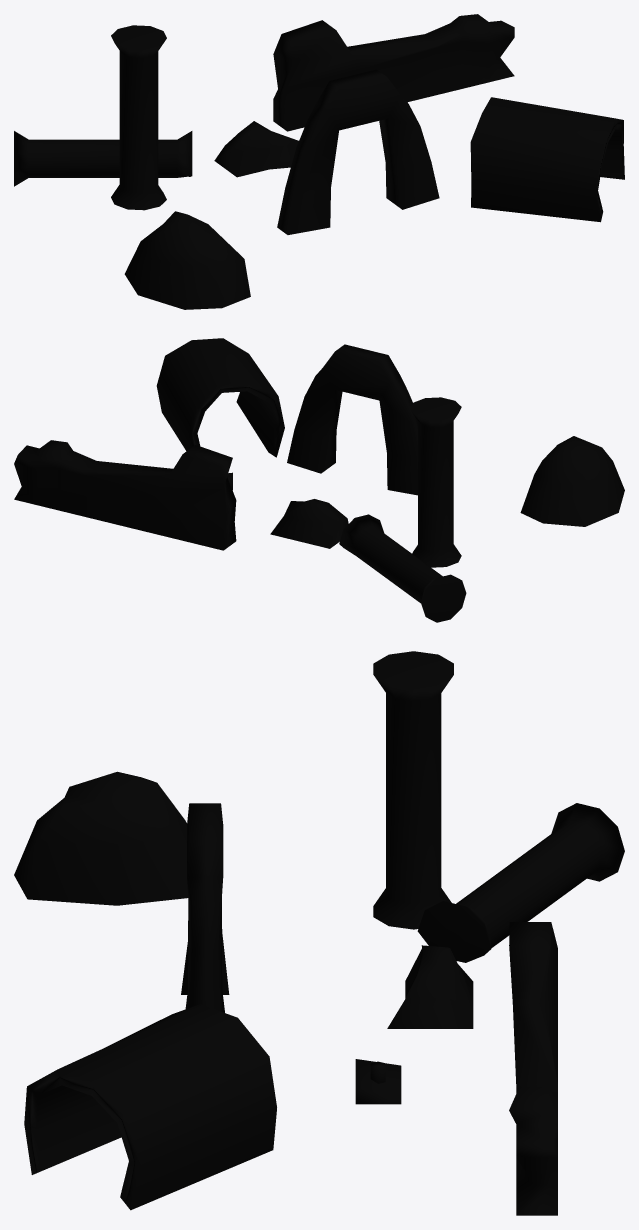
Rendered from Harley_Ruin.fbx.
3 renders of one model, top to bottom at view 1: azimuth 30°, elevation 25°; view 2: azimuth 150°, elevation 25°; view 3: azimuth 270°, elevation 25°, orthographic. The views are drawn at different scales.
Visible parts, largest first — view 1: Ruin_Tunnel, Ruin_Wall, Ruin_Arch, Ruin_Stone02, Ruin_Pillar_Upright, Ruin_Pillar_Fallen, Ruin_Stone01; view 2: Ruin_Wall, Ruin_Arch, Ruin_Tunnel, Ruin_Stone02, Ruin_Pillar_Upright, Ruin_Pillar_Fallen, Ruin_Stone01; view 3: Ruin_Tunnel, Ruin_Stone02, Ruin_Pillar_Upright, Ruin_Pillar_Fallen, Ruin_Wall, Ruin_Arch, Ruin_Stone01, Ruin_BrokenPole.
Boxes of the visible parts, x1,y1,x2,y2 form: Ruin_Tunnel: (470, 97, 624, 222); Ruin_Wall: (273, 14, 514, 131); Ruin_Arch: (277, 69, 439, 234); Ruin_Stone02: (124, 211, 250, 309); Ruin_Pillar_Upright: (111, 25, 166, 210); Ruin_Pillar_Fallen: (14, 131, 192, 186); Ruin_Stone01: (214, 121, 298, 177); Ruin_Wall: (14, 440, 236, 550); Ruin_Arch: (287, 344, 417, 495); Ruin_Tunnel: (156, 338, 284, 457); Ruin_Stone02: (520, 436, 624, 526); Ruin_Pillar_Upright: (410, 397, 461, 567); Ruin_Pillar_Fallen: (339, 514, 466, 622); Ruin_Stone01: (270, 499, 348, 548); Ruin_Tunnel: (24, 1004, 276, 1210); Ruin_Stone02: (14, 771, 188, 905); Ruin_Pillar_Upright: (373, 651, 453, 929); Ruin_Pillar_Fallen: (417, 803, 624, 962); Ruin_Wall: (509, 922, 557, 1215); Ruin_Arch: (181, 803, 229, 1012); Ruin_Stone01: (387, 945, 473, 1028); Ruin_BrokenPole: (355, 1059, 401, 1104).
Bounding box in the file's own units: 31.82 × 10.37 × 22.
1 material, 1 textured.
